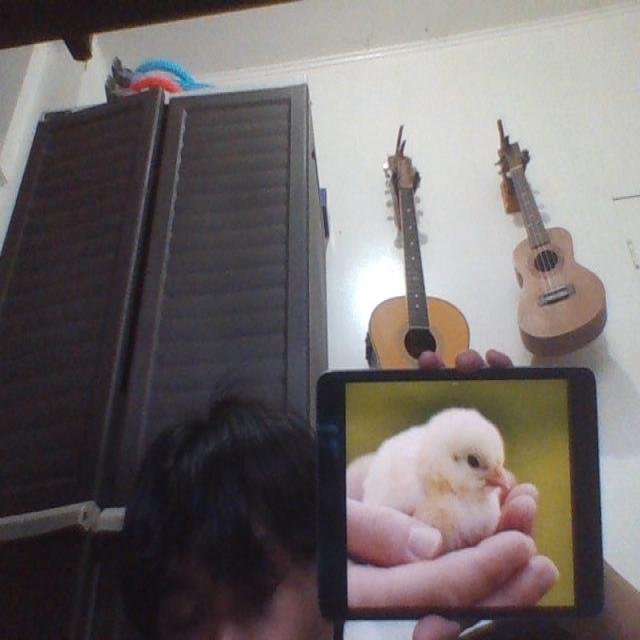Healthy: (365, 407, 509, 552)
